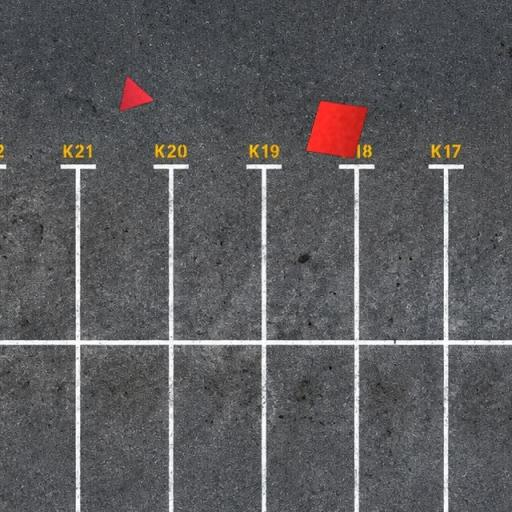RED_SQUARE: (305, 100, 369, 159)
